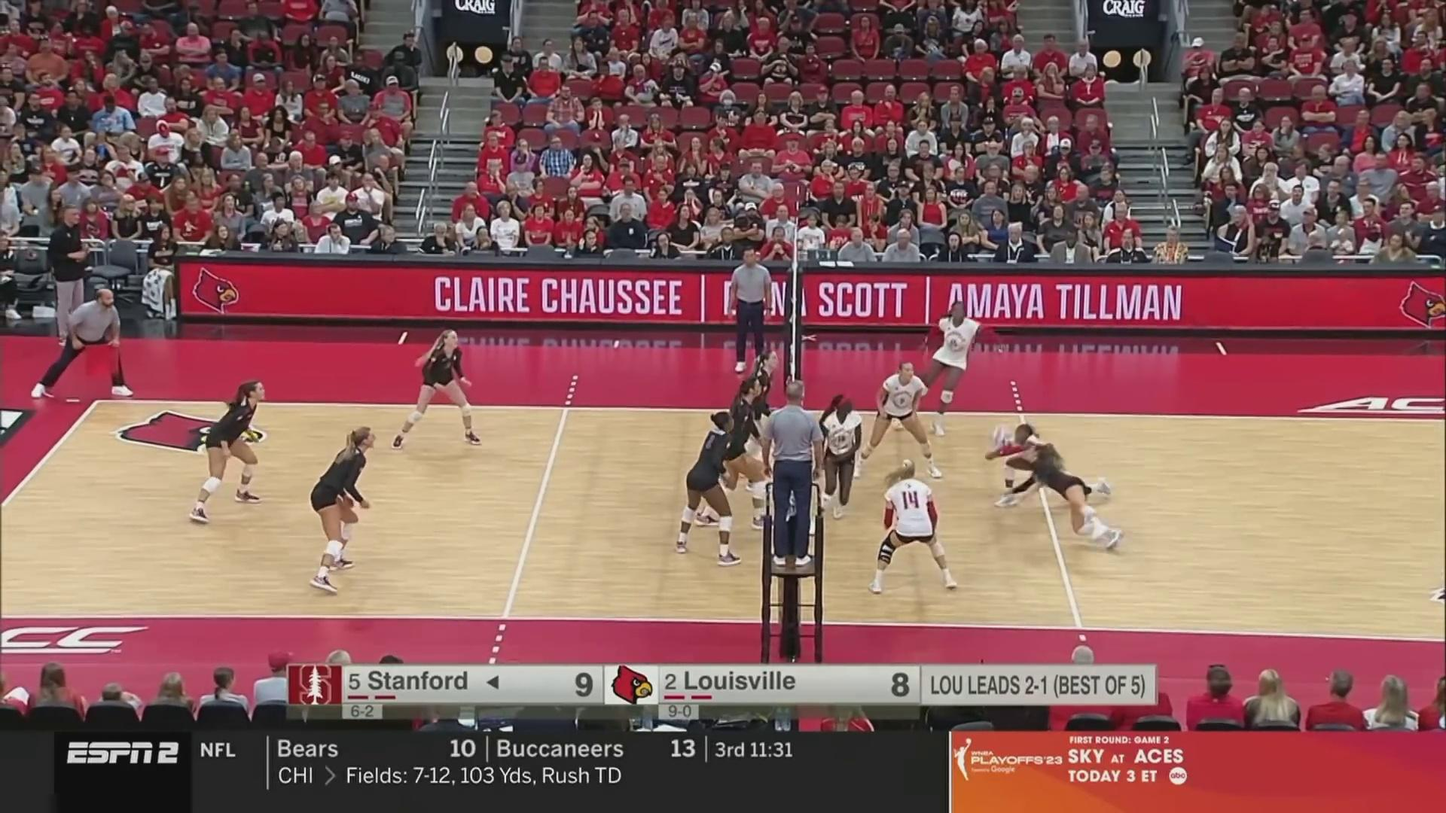player: (899, 295, 992, 437), (695, 382, 777, 532), (183, 382, 266, 525), (873, 467, 967, 593), (393, 331, 489, 452), (1016, 434, 1120, 545), (308, 428, 377, 595), (677, 414, 746, 570), (994, 423, 1113, 507), (858, 365, 940, 483), (727, 342, 782, 496), (819, 396, 876, 523)
refree: (31, 287, 140, 401), (761, 379, 824, 569), (724, 245, 778, 379)
